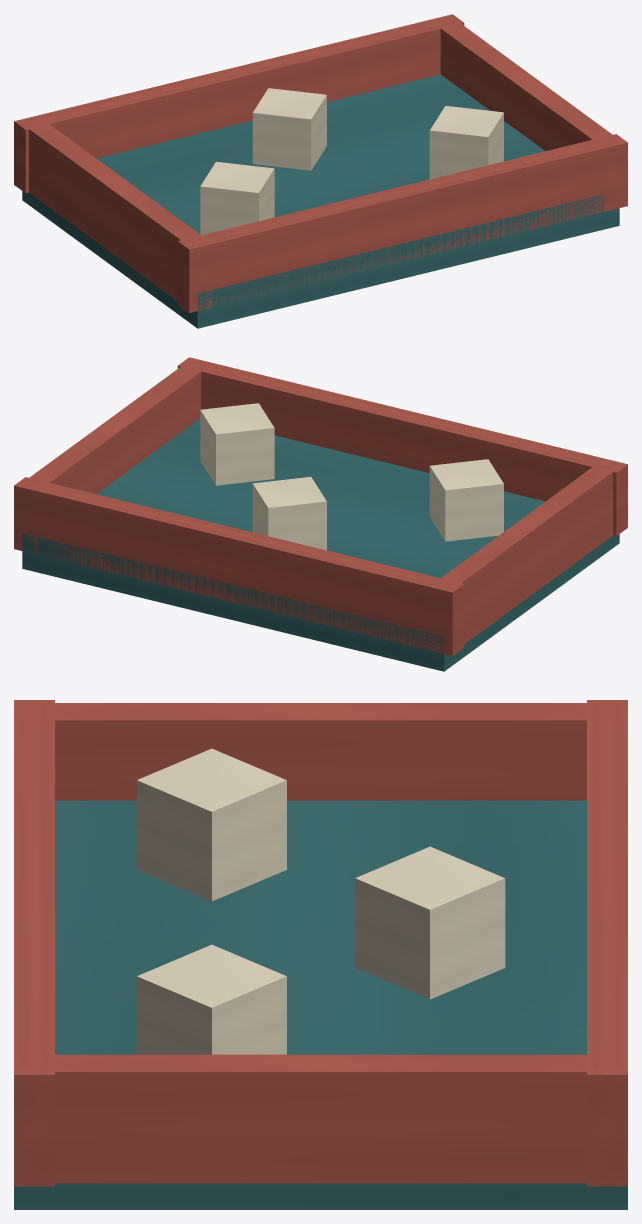
Rendered from atlas100-s031-a03.lod2.glb.
3 renders of one model, top to bottom at view 1: azimuth 30°, elevation 25°; view 2: azimuth 150°, elevation 25°; view 3: azimuth 270°, elevation 25°, orthographic. The views are drawn at different scales.
Visible parts, largest first — view 1: atlas100-s031-a03:part-000, atlas100-s031-a03:part-002, atlas100-s031-a03:part-001, atlas100-s031-a03:part-003, atlas100-s031-a03:part-004, atlas100-s031-a03:part-006, atlas100-s031-a03:part-010, atlas100-s031-a03:part-008; view 2: atlas100-s031-a03:part-000, atlas100-s031-a03:part-001, atlas100-s031-a03:part-002, atlas100-s031-a03:part-003, atlas100-s031-a03:part-004, atlas100-s031-a03:part-010, atlas100-s031-a03:part-008, atlas100-s031-a03:part-006; view 3: atlas100-s031-a03:part-000, atlas100-s031-a03:part-004, atlas100-s031-a03:part-003, atlas100-s031-a03:part-001, atlas100-s031-a03:part-002, atlas100-s031-a03:part-006, atlas100-s031-a03:part-008, atlas100-s031-a03:part-010.
Part boxes in pixels (left/top/right/bottom): atlas100-s031-a03:part-000: left=22, top=74, right=619, bottom=328; atlas100-s031-a03:part-002: left=177, top=134, right=627, bottom=312; atlas100-s031-a03:part-001: left=14, top=14, right=464, bottom=193; atlas100-s031-a03:part-003: left=29, top=124, right=212, bottom=311; atlas100-s031-a03:part-004: left=430, top=15, right=624, bottom=211; atlas100-s031-a03:part-006: left=252, top=88, right=326, bottom=170; atlas100-s031-a03:part-010: left=429, top=105, right=503, bottom=179; atlas100-s031-a03:part-008: left=200, top=161, right=274, bottom=235; atlas100-s031-a03:part-000: left=22, top=418, right=619, bottom=671; atlas100-s031-a03:part-001: left=14, top=477, right=464, bottom=655; atlas100-s031-a03:part-002: left=177, top=357, right=627, bottom=536; atlas100-s031-a03:part-003: left=429, top=467, right=612, bottom=654; atlas100-s031-a03:part-004: left=17, top=358, right=211, bottom=554; atlas100-s031-a03:part-010: left=200, top=403, right=274, bottom=485; atlas100-s031-a03:part-008: left=429, top=459, right=503, bottom=541; atlas100-s031-a03:part-006: left=252, top=477, right=326, bottom=550; atlas100-s031-a03:part-000: left=14, top=800, right=627, bottom=1209; atlas100-s031-a03:part-004: left=14, top=1054, right=627, bottom=1183; atlas100-s031-a03:part-003: left=14, top=703, right=627, bottom=800; atlas100-s031-a03:part-001: left=587, top=700, right=627, bottom=1186; atlas100-s031-a03:part-002: left=14, top=700, right=54, bottom=1186; atlas100-s031-a03:part-006: left=355, top=846, right=505, bottom=999; atlas100-s031-a03:part-008: left=136, top=748, right=286, bottom=901; atlas100-s031-a03:part-010: left=136, top=944, right=286, bottom=1054.
Size of the model in its own units: 1.36 by 0.2563 by 0.9414.
Materials: 3 (3 with a texture image).
